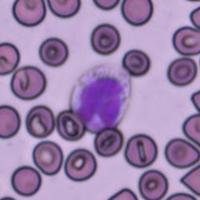N: (69, 62, 132, 134)
